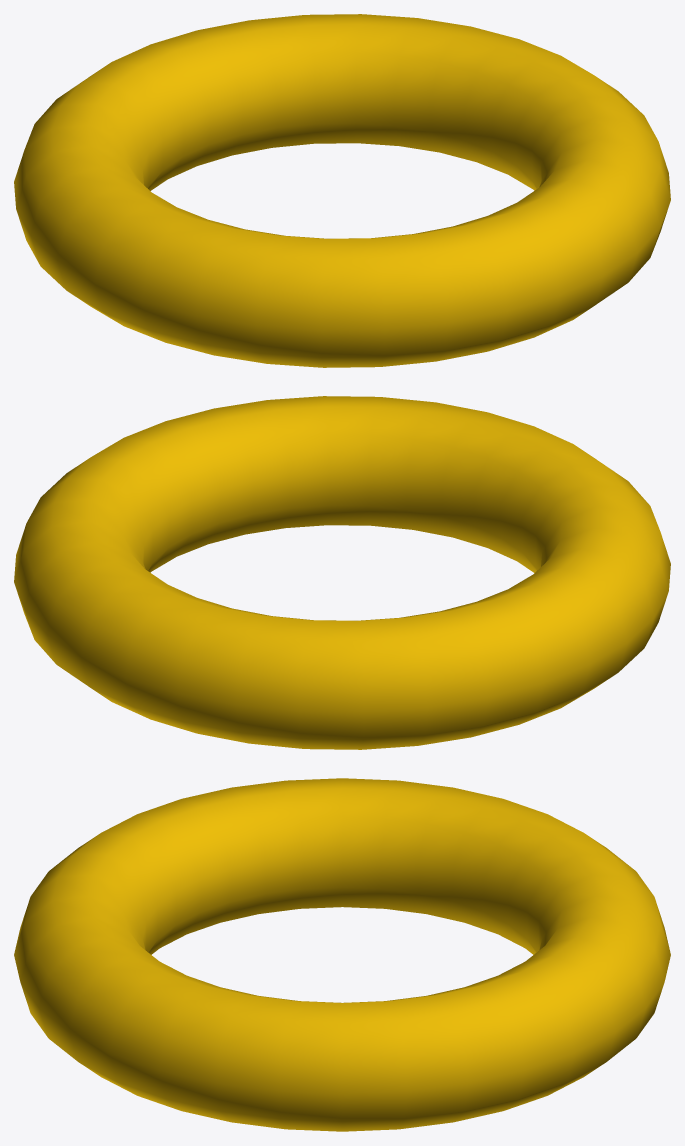
The model's file is Ring Cosmetic.fbx.
The picture shows the model from 3 angles, top to bottom: view 1: azimuth 30°, elevation 25°; view 2: azimuth 150°, elevation 25°; view 3: azimuth 270°, elevation 25°; orthographic projection.
Visible parts, largest first — view 1: Torus.004; view 2: Torus.004; view 3: Torus.004.
Boxes of the visible parts, x1,y1,x2,y2 form: Torus.004: (14, 14, 670, 367); Torus.004: (14, 396, 670, 749); Torus.004: (14, 778, 670, 1131).
Size of the model in its own units: 250 by 49.49 by 250.
